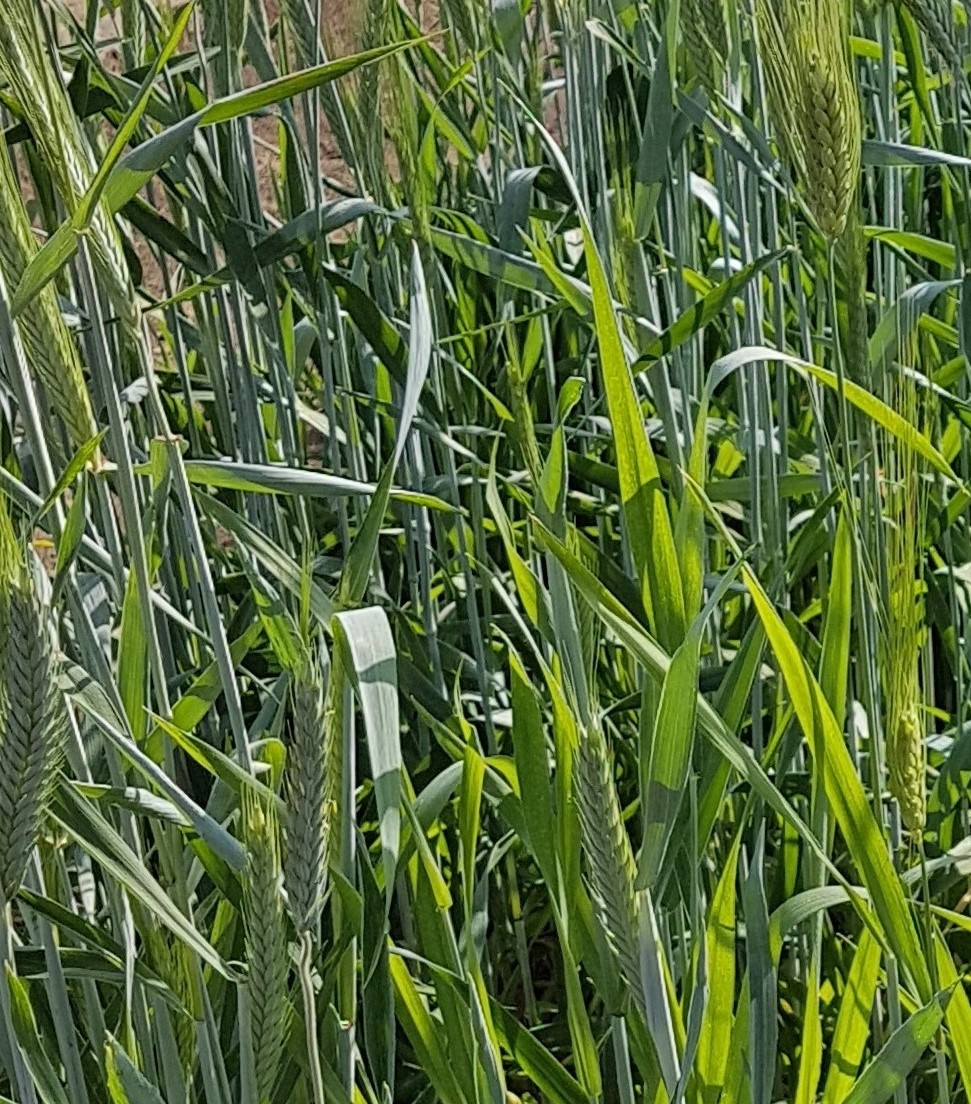Healthy Wheat: (236, 675, 351, 1073), (562, 722, 672, 979), (797, 50, 872, 231)
